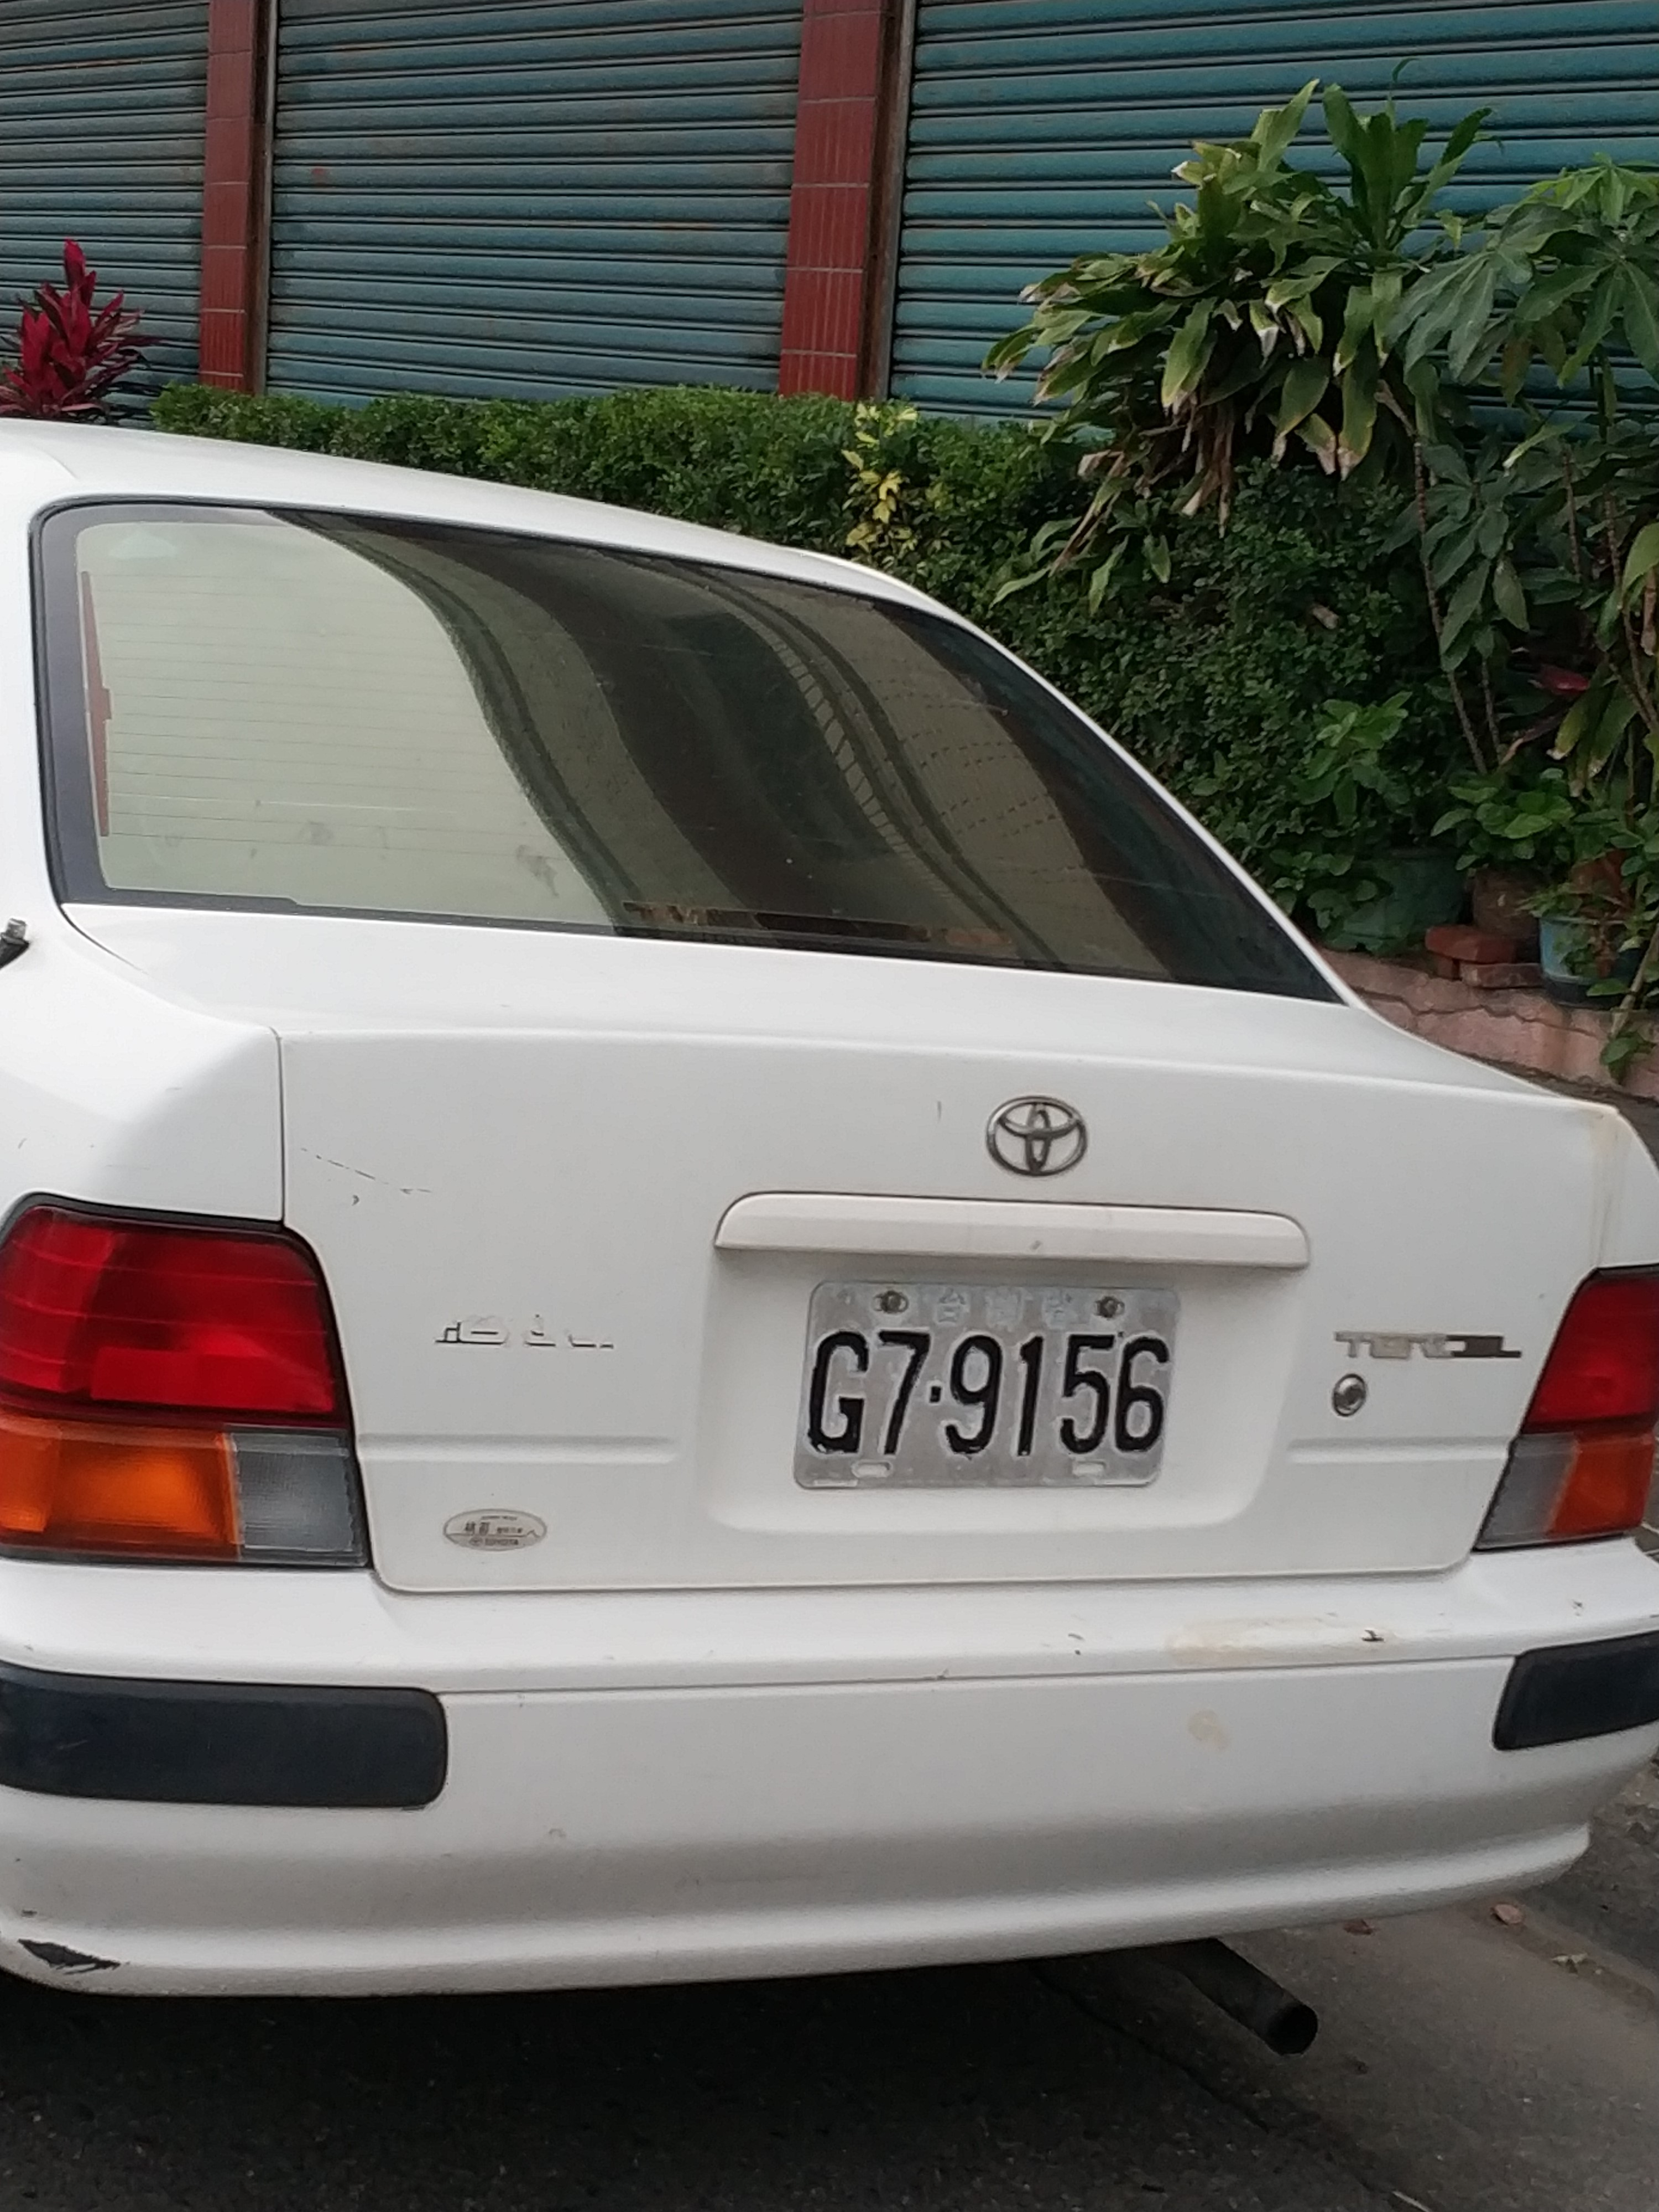car: (2, 418, 1659, 2003)
car_card: (793, 1282, 1180, 1475)
